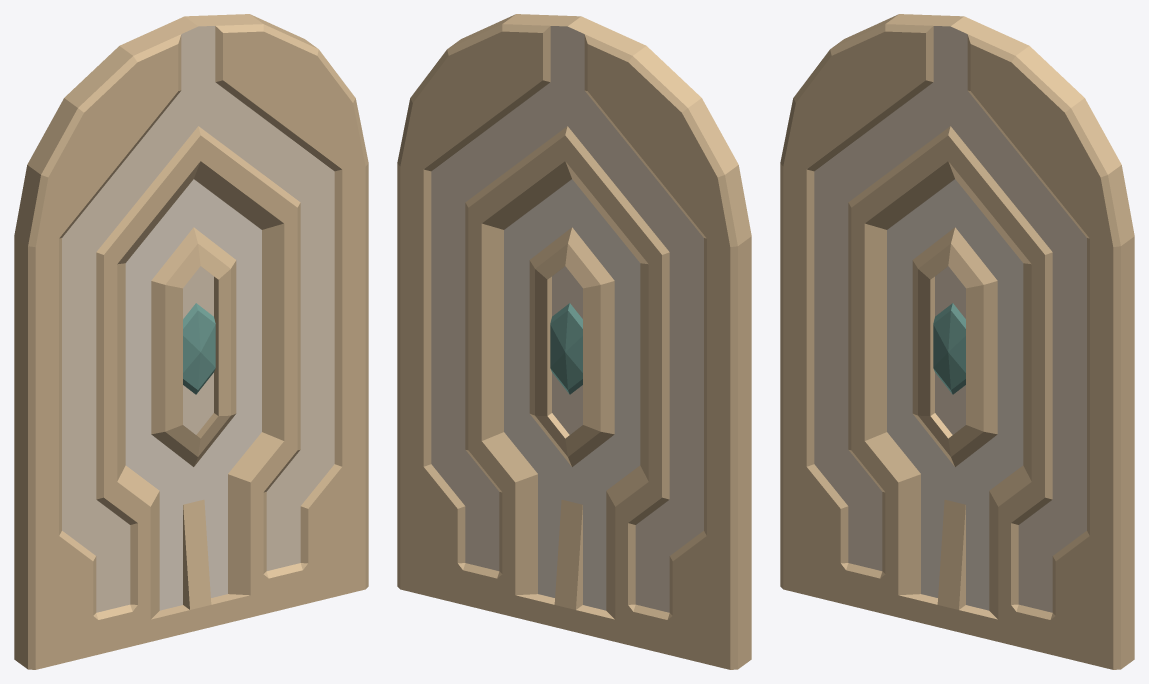
File: temple_Wall_Straight_Door_Large_Pocket.glb
The picture shows the model from 3 angles, left to right: view 1: azimuth 30°, elevation 25°; view 2: azimuth 150°, elevation 25°; view 3: azimuth 330°, elevation 25°; orthographic projection.
Parts seen in each view (by area): view 1: object1; view 2: object1; view 3: object1.
Boxes of the visible parts, <box> form: object1: <box>14,14,368,669</box>; object1: <box>397,14,751,669</box>; object1: <box>780,14,1134,669</box>.
Bounding box in the file's own units: 1.6 × 2.7 × 0.15.
